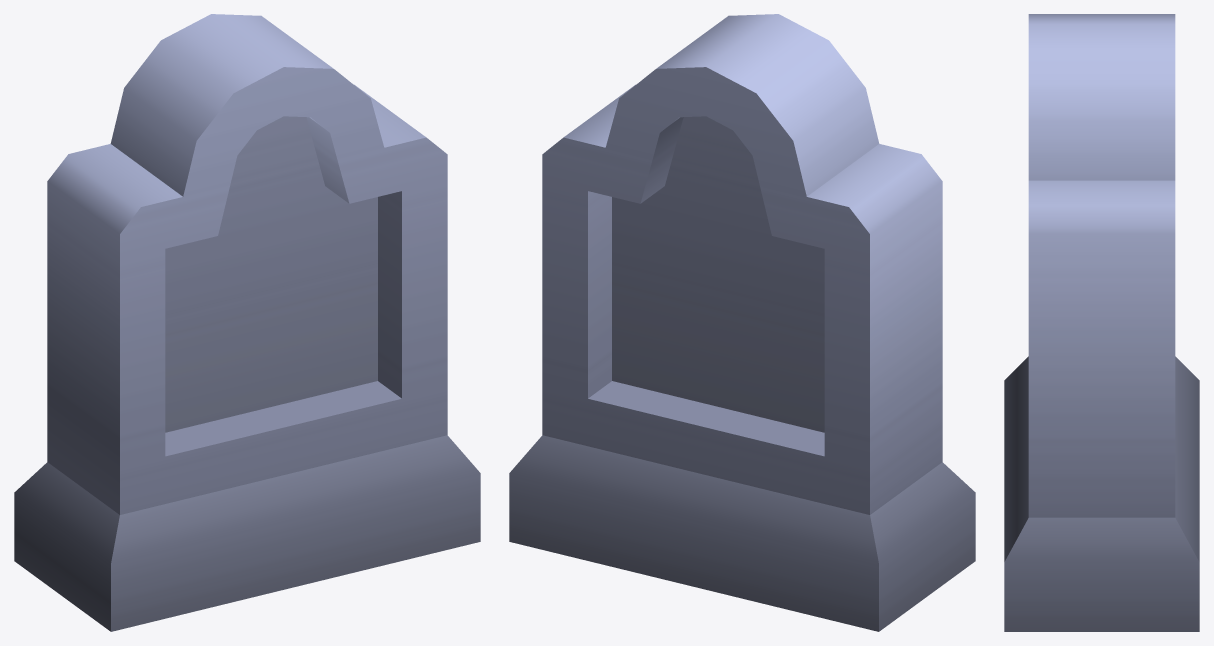
The model's file is gravestone-bevel.glb.
3 views of the same model, side by side, from view 1: azimuth 30°, elevation 25°; view 2: azimuth 150°, elevation 25°; view 3: azimuth 270°, elevation 25° (orthographic).
Visible parts, largest first — view 1: Asset3DLoader.sceneRoot; view 2: Asset3DLoader.sceneRoot; view 3: Asset3DLoader.sceneRoot.
Boxes of the visible parts, x1=… form: Asset3DLoader.sceneRoot: x1=14, y1=14, x2=480, y2=631; Asset3DLoader.sceneRoot: x1=509, y1=14, x2=975, y2=631; Asset3DLoader.sceneRoot: x1=1004, y1=14, x2=1199, y2=631.
Bounding box in the file's own units: 0.44 × 0.5812 × 0.1995.
1 material, 1 textured.
